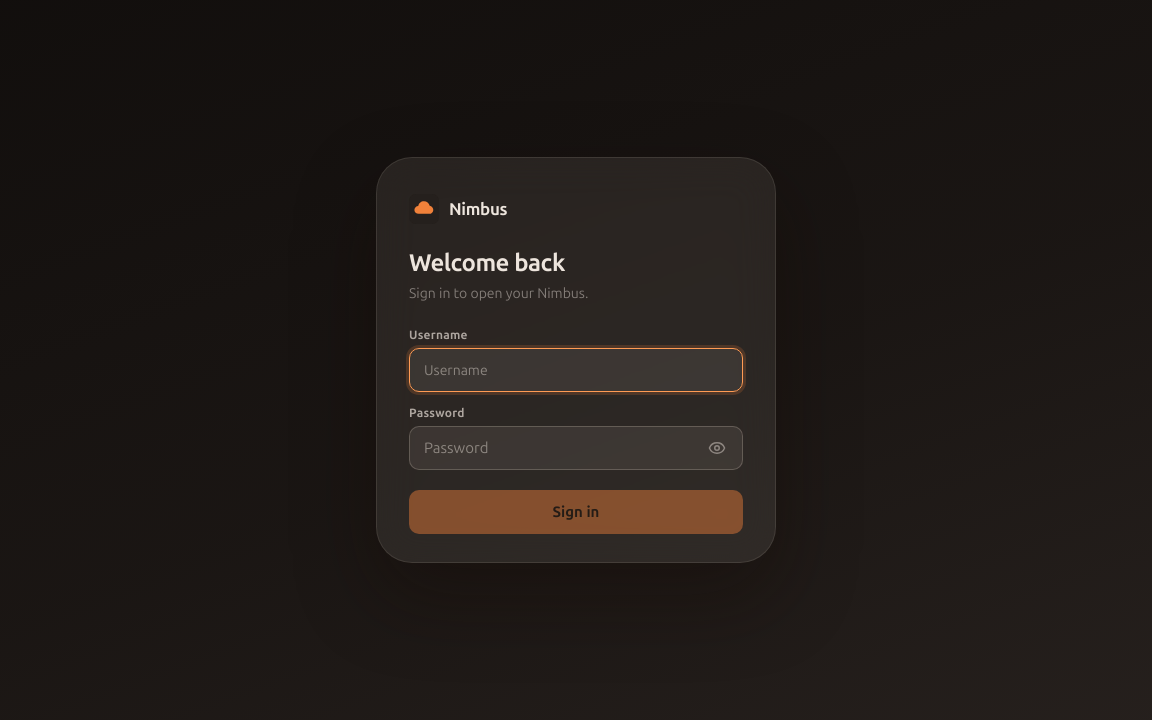
Test case: Login Component › enables submit button when inputs are filled
Type "admin" into the field with placeholder "Username" at {"x": 576, "y": 370}, box left=409, top=348, right=743, bottom=392
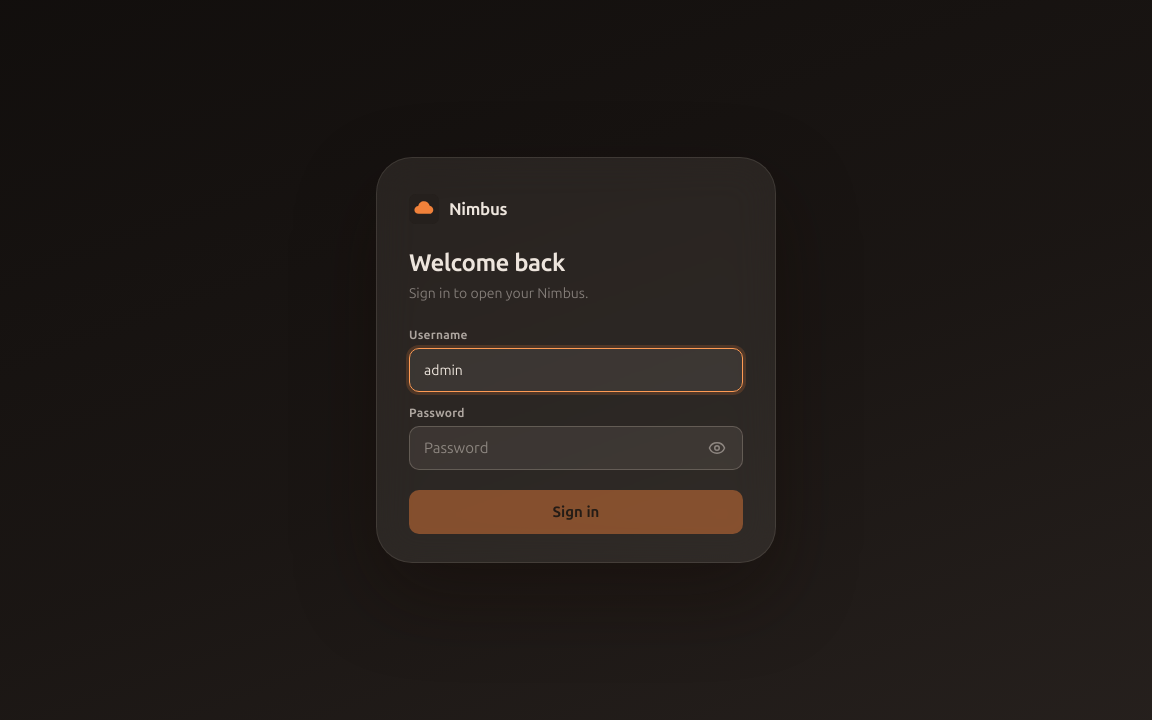
Type "password123" into the password field with placeholder "Password" at {"x": 576, "y": 448}, box left=409, top=426, right=743, bottom=470
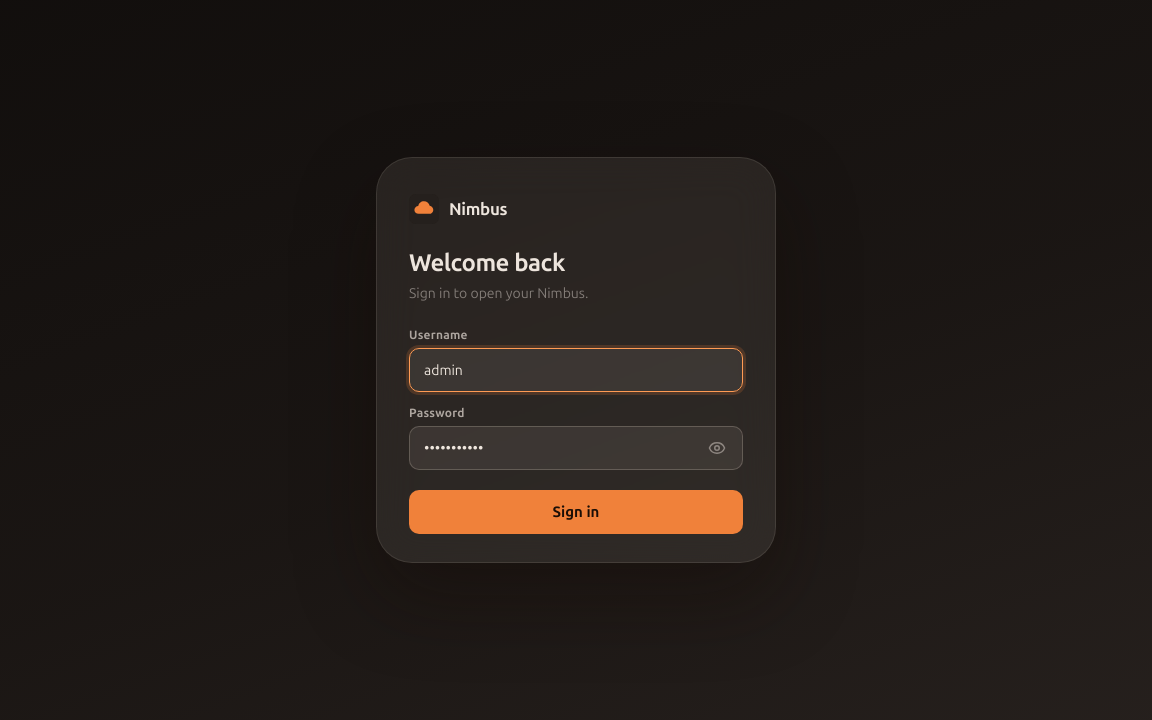
Result: the button "Sign in" is enabled at left=409, top=490, right=743, bottom=534
